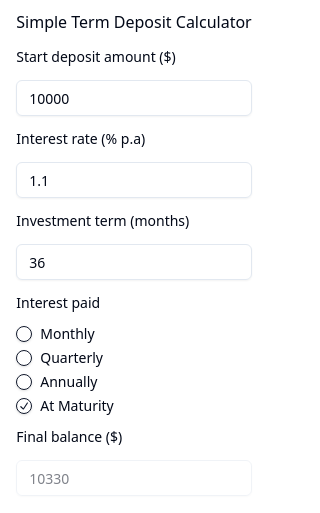
Test case: Home page › should successfully select annually radio item
What coordinates should you click on to do the following:
click the radio button with test id "annually-radio"
I would click on:
 (24, 382)
Its box is [16,374,32,390].
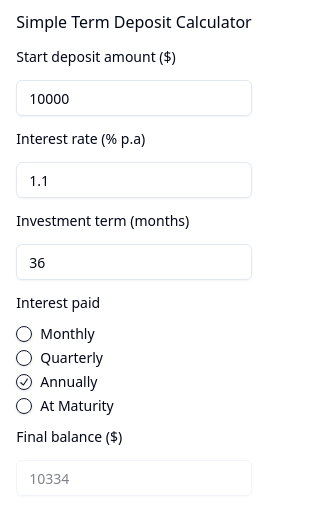
Check: the number field with test id "depositAmount-input" holds "10000", box [16,80,252,116]
Check: the radio button with test id "annually-radio" is checked, box [16,374,32,390]
Check: the number field with test id "finalBalance-input" holds "10334", box [16,460,252,496]
